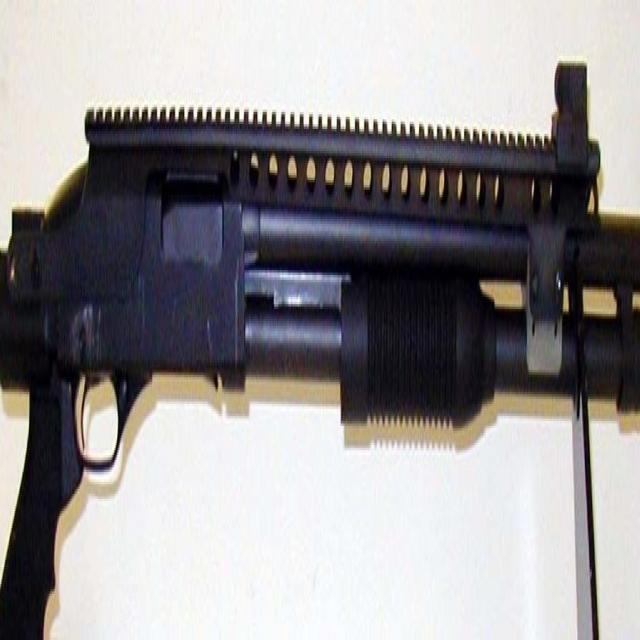weapon: (0, 50, 639, 634)
